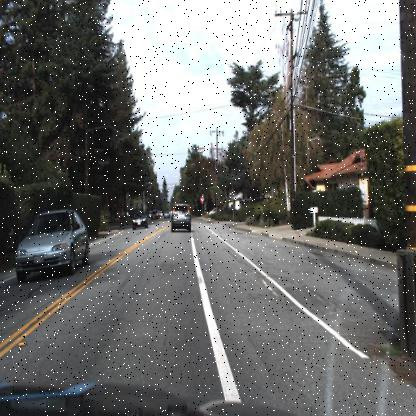car: (15, 207, 91, 282), (170, 202, 192, 235), (130, 209, 149, 233), (132, 210, 148, 229), (149, 206, 161, 223)
